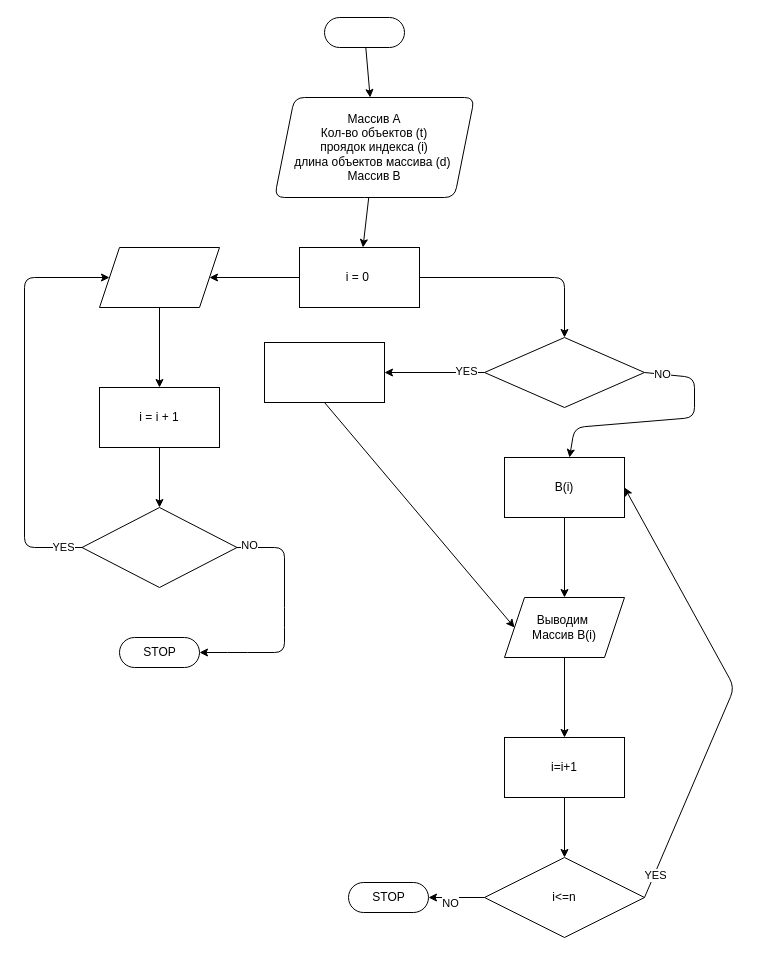
Image size: 760x955. Some labels were removed from this diagram. Each missing label, with the centre of its shape:
B(i)=A(i): (324,372)
d <= 3: (564,372)
i <= t: (159,547)
START: (364,32)
Выводим Массив А: (159,277)
